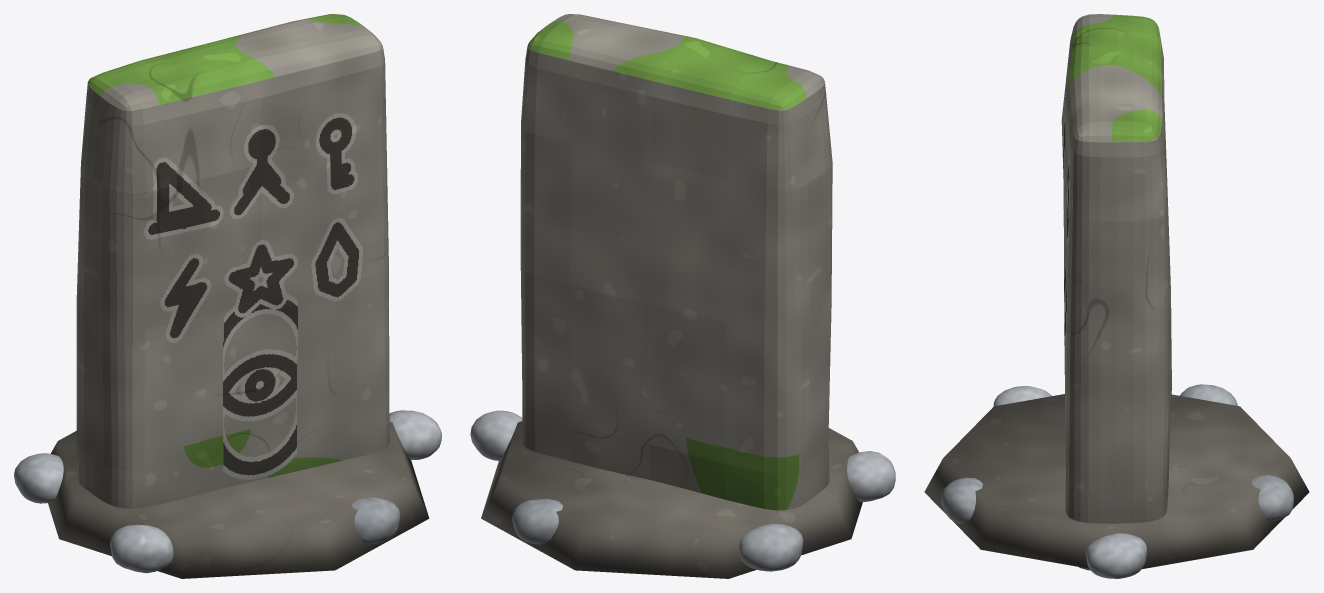
Rendered from sign_stone.glb.
3 renders of one model, left to right at view 1: azimuth 30°, elevation 25°; view 2: azimuth 150°, elevation 25°; view 3: azimuth 270°, elevation 25°, orthographic. The views are drawn at different scales.
Parts seen in each view (by area): view 1: SignStone; view 2: SignStone; view 3: SignStone.
Part boxes in pixels (x1,y1,x2,y2): SignStone: [14, 14, 441, 578]; SignStone: [470, 14, 895, 578]; SignStone: [924, 14, 1309, 578].
Bounding box in the file's own units: 1.34 × 1.6 × 1.24.
Materials: 1 (1 with a texture image).
